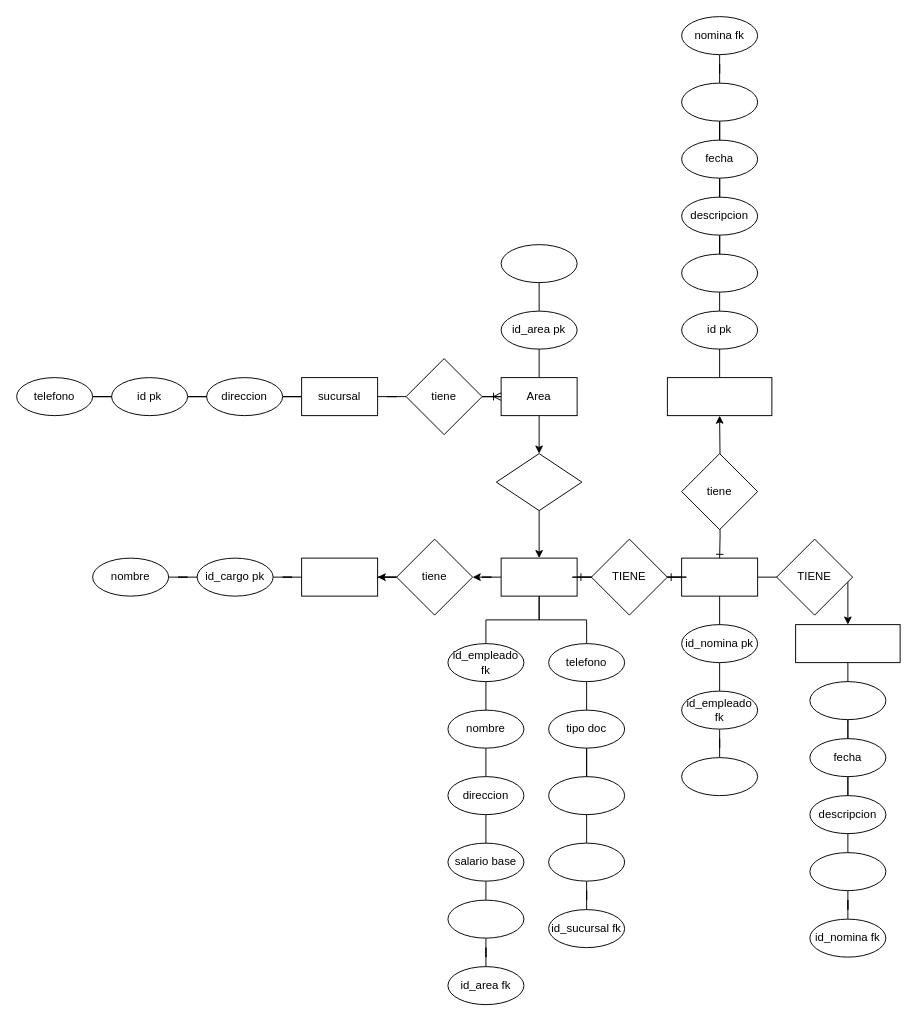
Some shapes in this 917 by 1021 pixel diagram are drawn without their labels. Each missing label, with the centre of its shape:
Cargo: [339,576]
concepto: [719,396]
Contiene: [538,482]
email: [586,861]
empleado: [538,576]
id_cargo fk: [485,918]
id_novedad pk: [847,700]
justificacion: [847,871]
monto: [719,101]
nombre_area: [538,263]
nomina: [719,576]
novedades: [847,643]
numero de doc: [586,795]
periodo de pago: [719,776]
tipo de concepto: [719,272]
